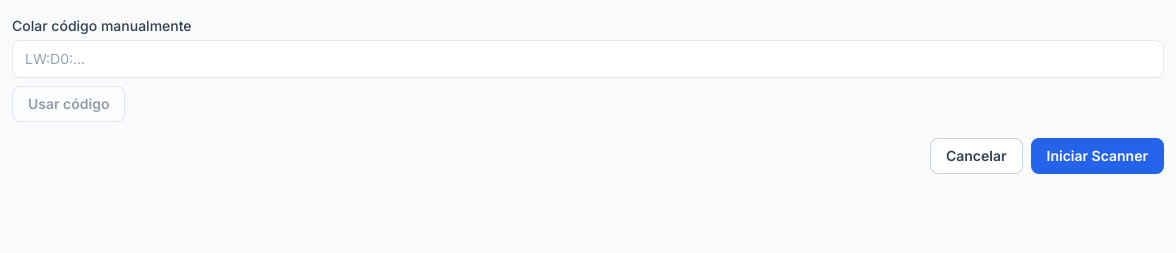
QrScanner › erro de permissão de câmera exibe Alert amigável e estado error
The image size is (1176, 253).
Click the button "Iniciar Scanner".
click(1097, 156)  # box [1030, 138, 1164, 174]
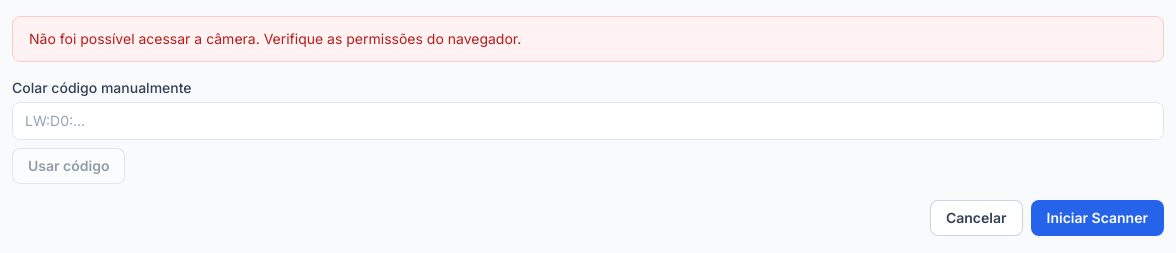
Expected: the button "Iniciar Scanner" is shown, [1030, 200, 1164, 236]
Now the message shows "Não foi possível acessar a câmera", box [29, 30, 521, 47]
